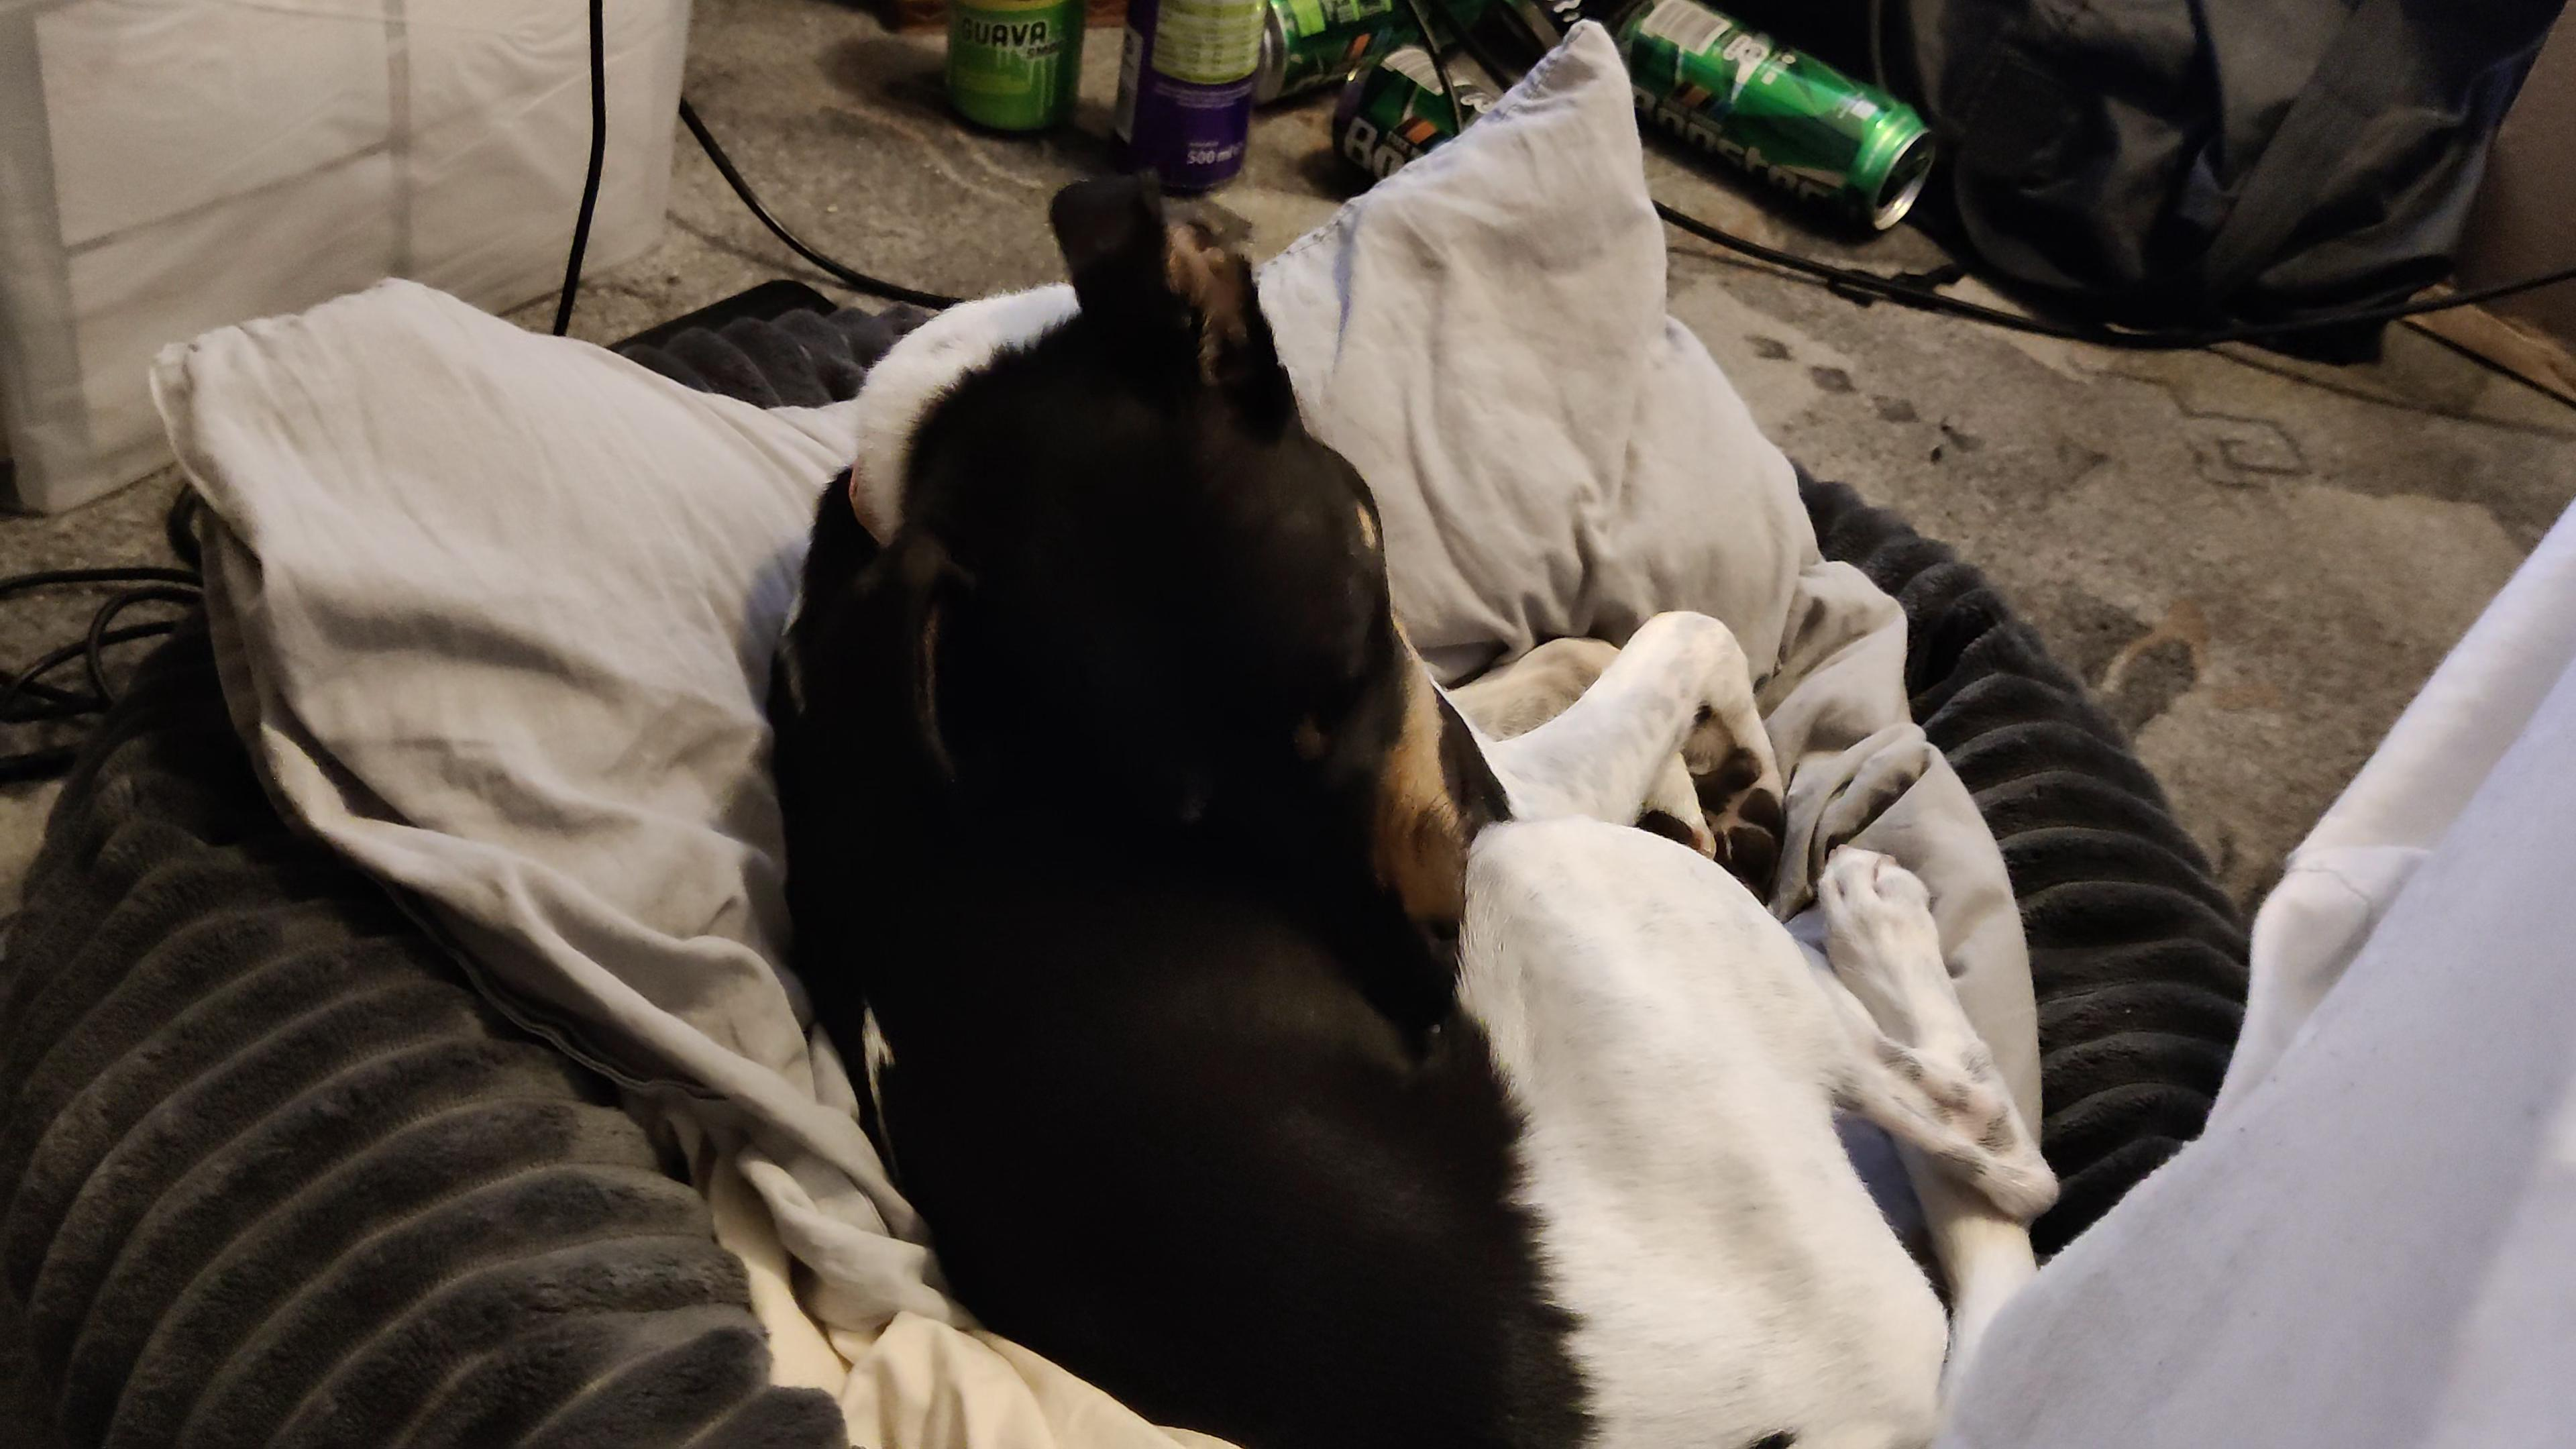Dog: (768, 147, 2074, 1449)
